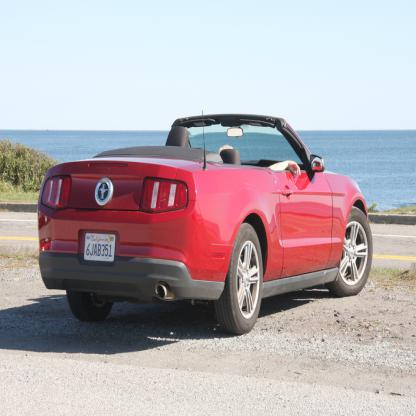Car: (37, 110, 374, 333)
